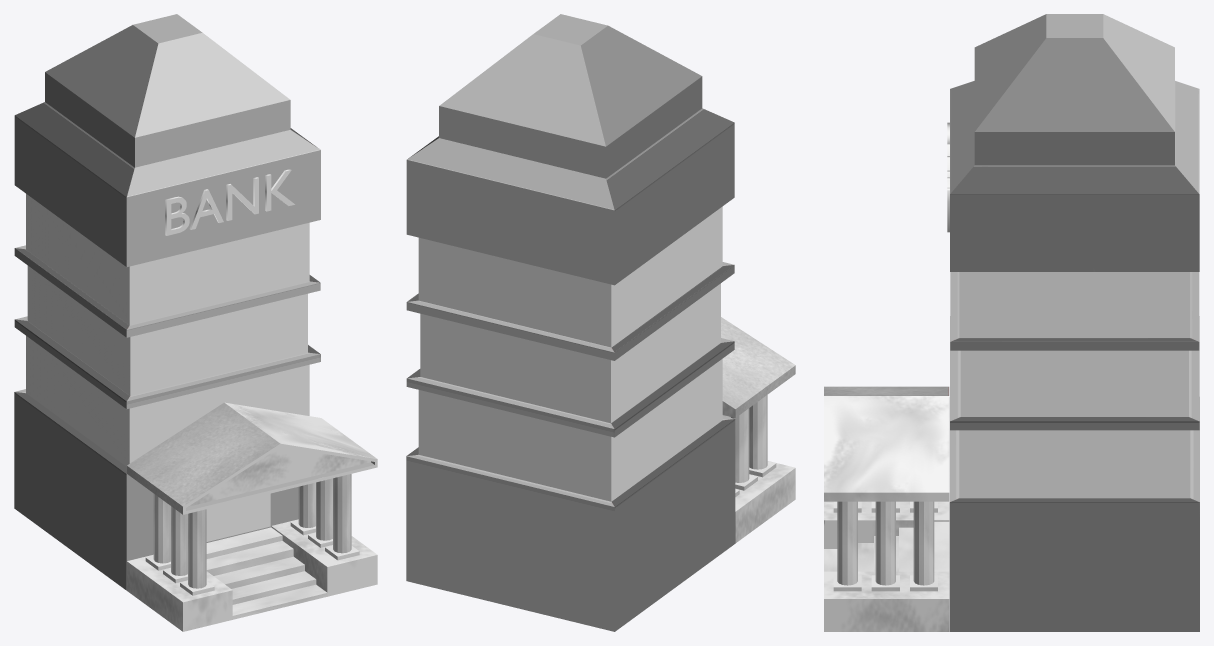
The model's file is bank_en.gltf.
3 renders of one model, left to right at view 1: azimuth 30°, elevation 25°; view 2: azimuth 150°, elevation 25°; view 3: azimuth 270°, elevation 25°, orthographic. The views are drawn at different scales.
Parts seen in each view (by area): view 1: Building; view 2: Building; view 3: Building.
Part boxes in pixels (x1=…): Building: x1=14, y1=14, x2=377, y2=631; Building: x1=406, y1=14, x2=795, y2=631; Building: x1=824, y1=14, x2=1199, y2=631.
Size of the model in its own units: 2 by 4.88 by 3.
Materials: 2 (1 with a texture image).
